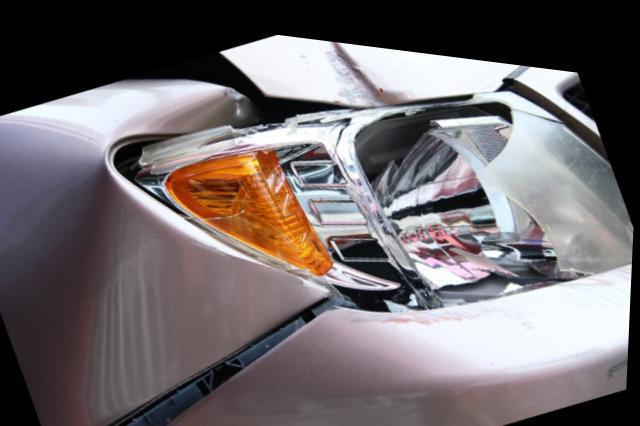dent: (0, 119, 119, 426), (281, 31, 404, 96)
dislocated part: (108, 245, 634, 426)
lamp broken: (129, 74, 635, 301)
scratch: (347, 249, 634, 317), (540, 325, 631, 362)
